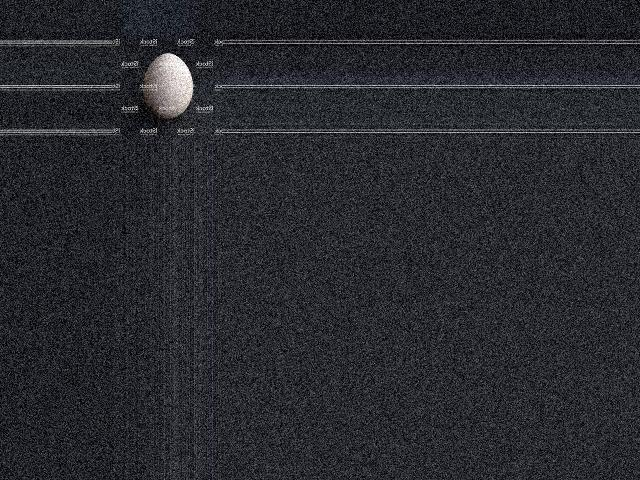egg: (142, 53, 192, 119)
